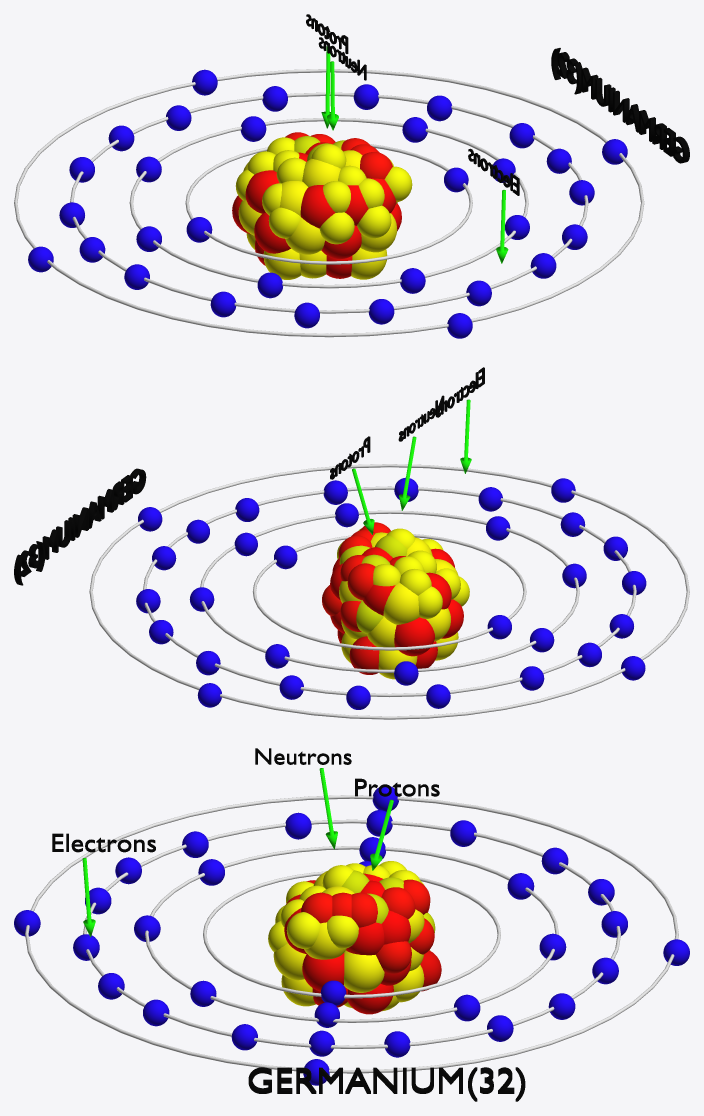
Rendered from Germanium Atomic Model.gltf.
3 renders of one model, top to bottom at view 1: azimuth 30°, elevation 25°; view 2: azimuth 150°, elevation 25°; view 3: azimuth 270°, elevation 25°, orthographic. The views are drawn at different scales.
Parts seen in each view (by area): view 1: Sphere.009, Torus.003, Text.003, Torus.002, Torus.001, Torus, Text, Sphere.033, Sphere.032, Sphere.034, Sphere.035, Sphere.037 (+25 smaller); view 2: Sphere.009, Torus.003, Text.003, Torus.002, Torus.001, Torus, Text; view 3: Sphere.009, Torus.003, Text.003, Torus.002, Torus.001, Torus, Text, Text.001, Text.002, Sphere.030, Sphere.031, Sphere.050 (+21 smaller).
Part boxes in pixels (left/top/right/bottom): Sphere.009: left=232, top=132, right=412, bottom=279; Torus.003: left=14, top=69, right=644, bottom=337; Text.003: left=551, top=48, right=689, bottom=163; Torus.002: left=70, top=92, right=588, bottom=313; Torus.001: left=129, top=118, right=528, bottom=288; Torus: left=185, top=141, right=472, bottom=264; Text: left=468, top=148, right=519, bottom=195; Sphere.033: left=257, top=272, right=282, bottom=298; Sphere.032: left=210, top=291, right=236, bottom=317; Sphere.034: left=294, top=302, right=319, bottom=328; Sphere.035: left=368, top=299, right=394, bottom=324; Sphere.037: left=400, top=268, right=425, bottom=293; Sphere.009: left=322, top=522, right=469, bottom=679; Torus.003: left=89, top=464, right=689, bottom=719; Text.003: left=14, top=468, right=146, bottom=585; Torus.002: left=143, top=486, right=636, bottom=697; Torus.001: left=200, top=510, right=579, bottom=672; Torus: left=252, top=534, right=526, bottom=650; Text: left=435, top=367, right=484, bottom=417; Sphere.009: left=268, top=861, right=441, bottom=1014; Torus.003: left=25, top=795, right=678, bottom=1073; Text.003: left=248, top=1067, right=525, bottom=1101; Torus.002: left=83, top=819, right=620, bottom=1048; Torus.001: left=145, top=846, right=558, bottom=1022; Torus: left=203, top=871, right=500, bottom=998; Text: left=52, top=833, right=155, bottom=852; Text.001: left=255, top=748, right=351, bottom=764; Text.002: left=355, top=778, right=439, bottom=796; Sphere.030: left=285, top=812, right=311, bottom=839; Sphere.031: left=450, top=820, right=476, bottom=846; Sphere.050: left=453, top=994, right=480, bottom=1021.
Size of the model in its own units: 4.26 by 1.66 by 4.05.
